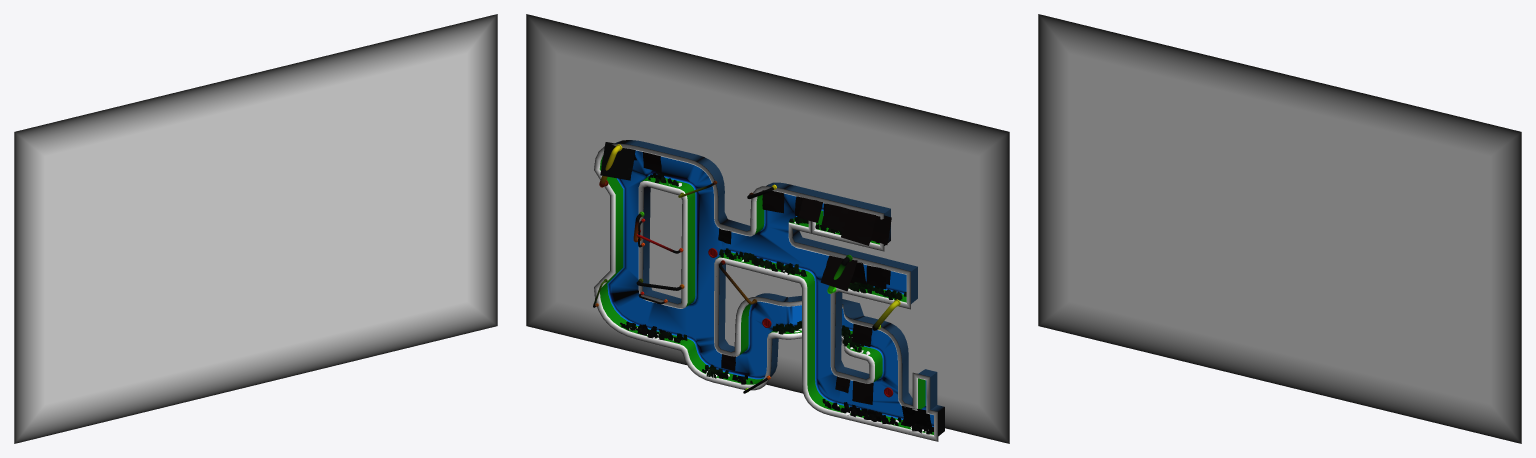
File: lvlmodel_test.fbx
The picture shows the model from 3 angles, left to right: view 1: azimuth 30°, elevation 25°; view 2: azimuth 150°, elevation 25°; view 3: azimuth 330°, elevation 25°; orthographic projection.
Visible parts, largest first — view 1: model_geometry; view 2: model_geometry; view 3: model_geometry.
Part boxes in pixels (x1=…): model_geometry: x1=14, y1=14, x2=497, y2=443; model_geometry: x1=526, y1=14, x2=1009, y2=443; model_geometry: x1=1038, y1=14, x2=1521, y2=443.
Size of what is drawn, in the model's own units: 7913 by 4884 by 1084.
